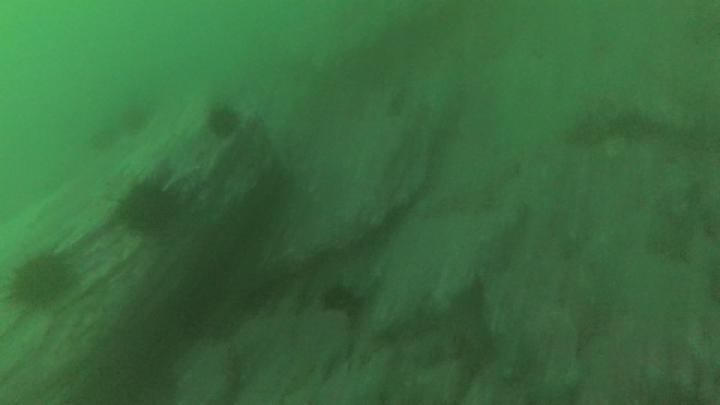echinus: (11, 256, 75, 312), (123, 180, 175, 240), (323, 280, 360, 319), (204, 107, 241, 141)
